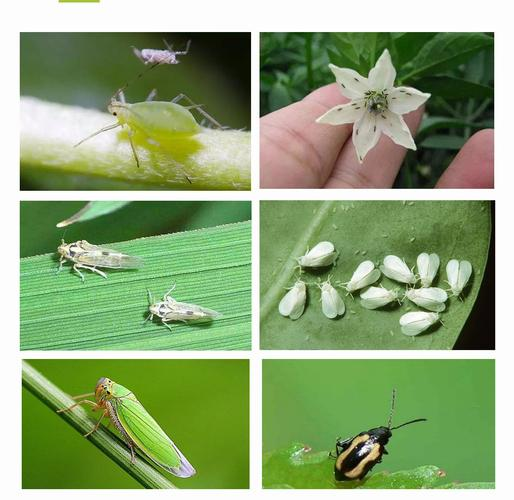Delphacidae: (56, 377, 197, 479), (54, 231, 146, 283), (139, 280, 225, 332), (339, 260, 381, 300), (277, 274, 312, 321), (293, 240, 339, 274), (442, 258, 473, 303), (314, 275, 346, 318), (378, 253, 417, 287), (400, 285, 447, 312), (398, 311, 447, 336), (360, 286, 401, 311), (416, 251, 440, 288)
